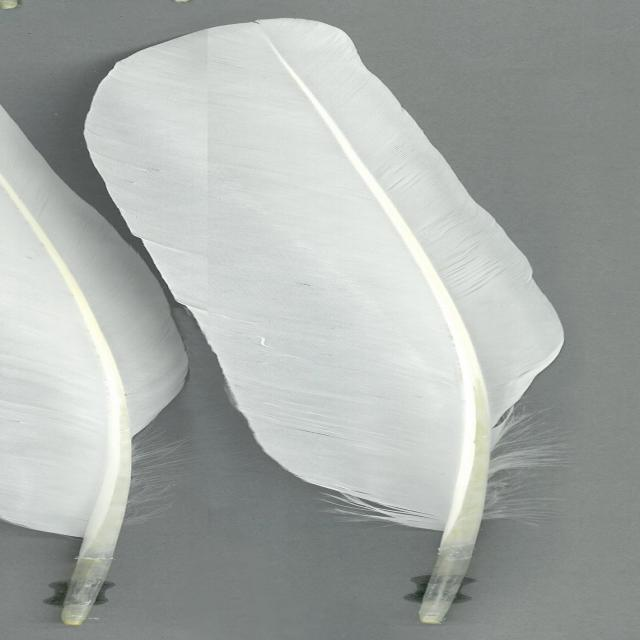feather: (70, 16, 568, 627), (0, 104, 194, 623)
